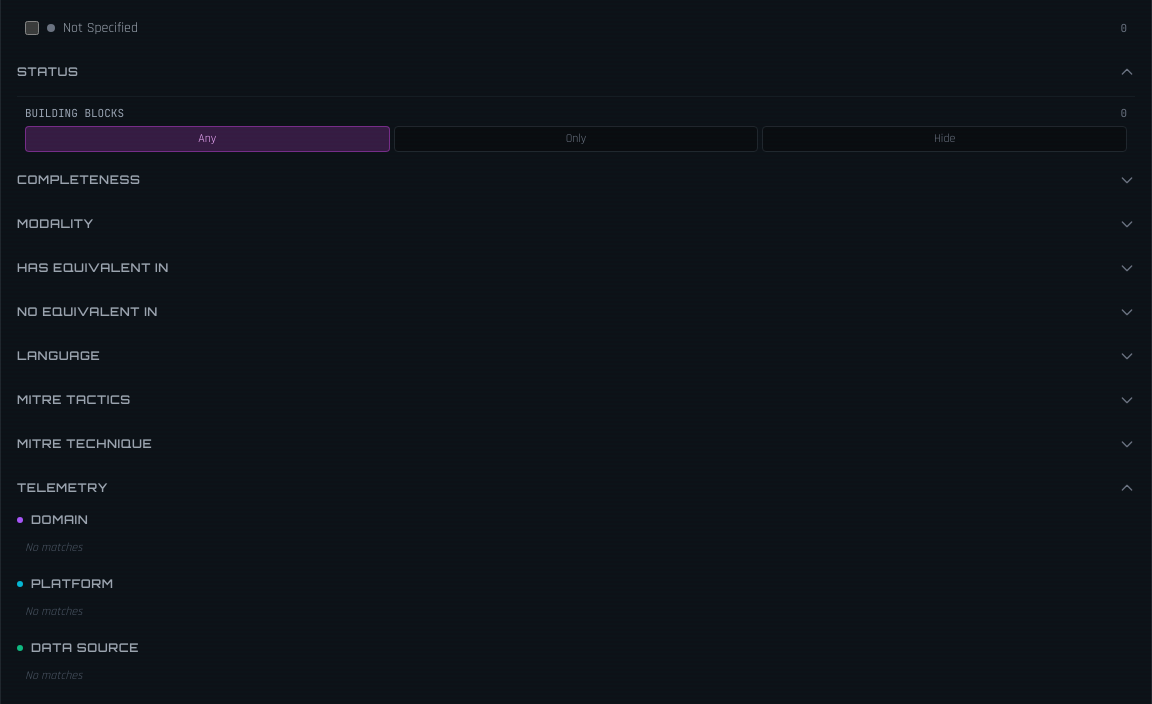
FilterPanel (#25 simplification) › language options are facet-driven with corrected labels
(page scrolled)
Click the button "Language": x=59, y=355 left=17, top=340, right=1135, bottom=372
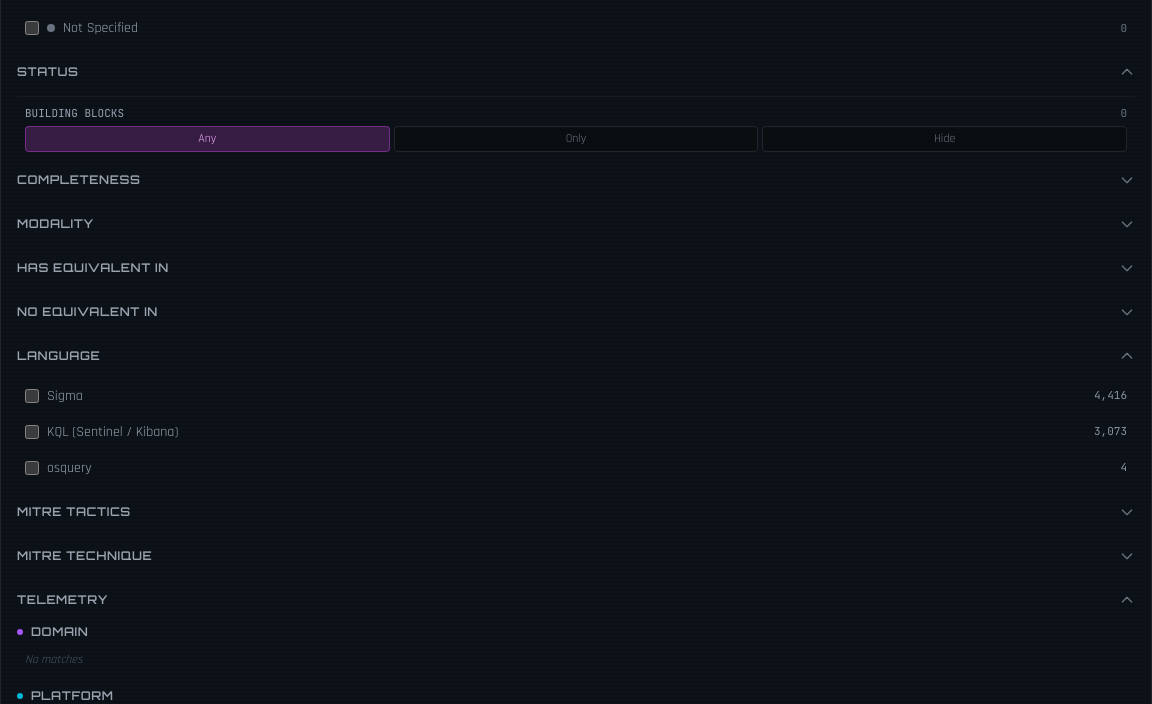
Expected: the text "KQL (Sentinel / Kibana)" is shown, left=47, top=422, right=178, bottom=442
Expected: the text "osquery" is shown, left=47, top=458, right=92, bottom=478
